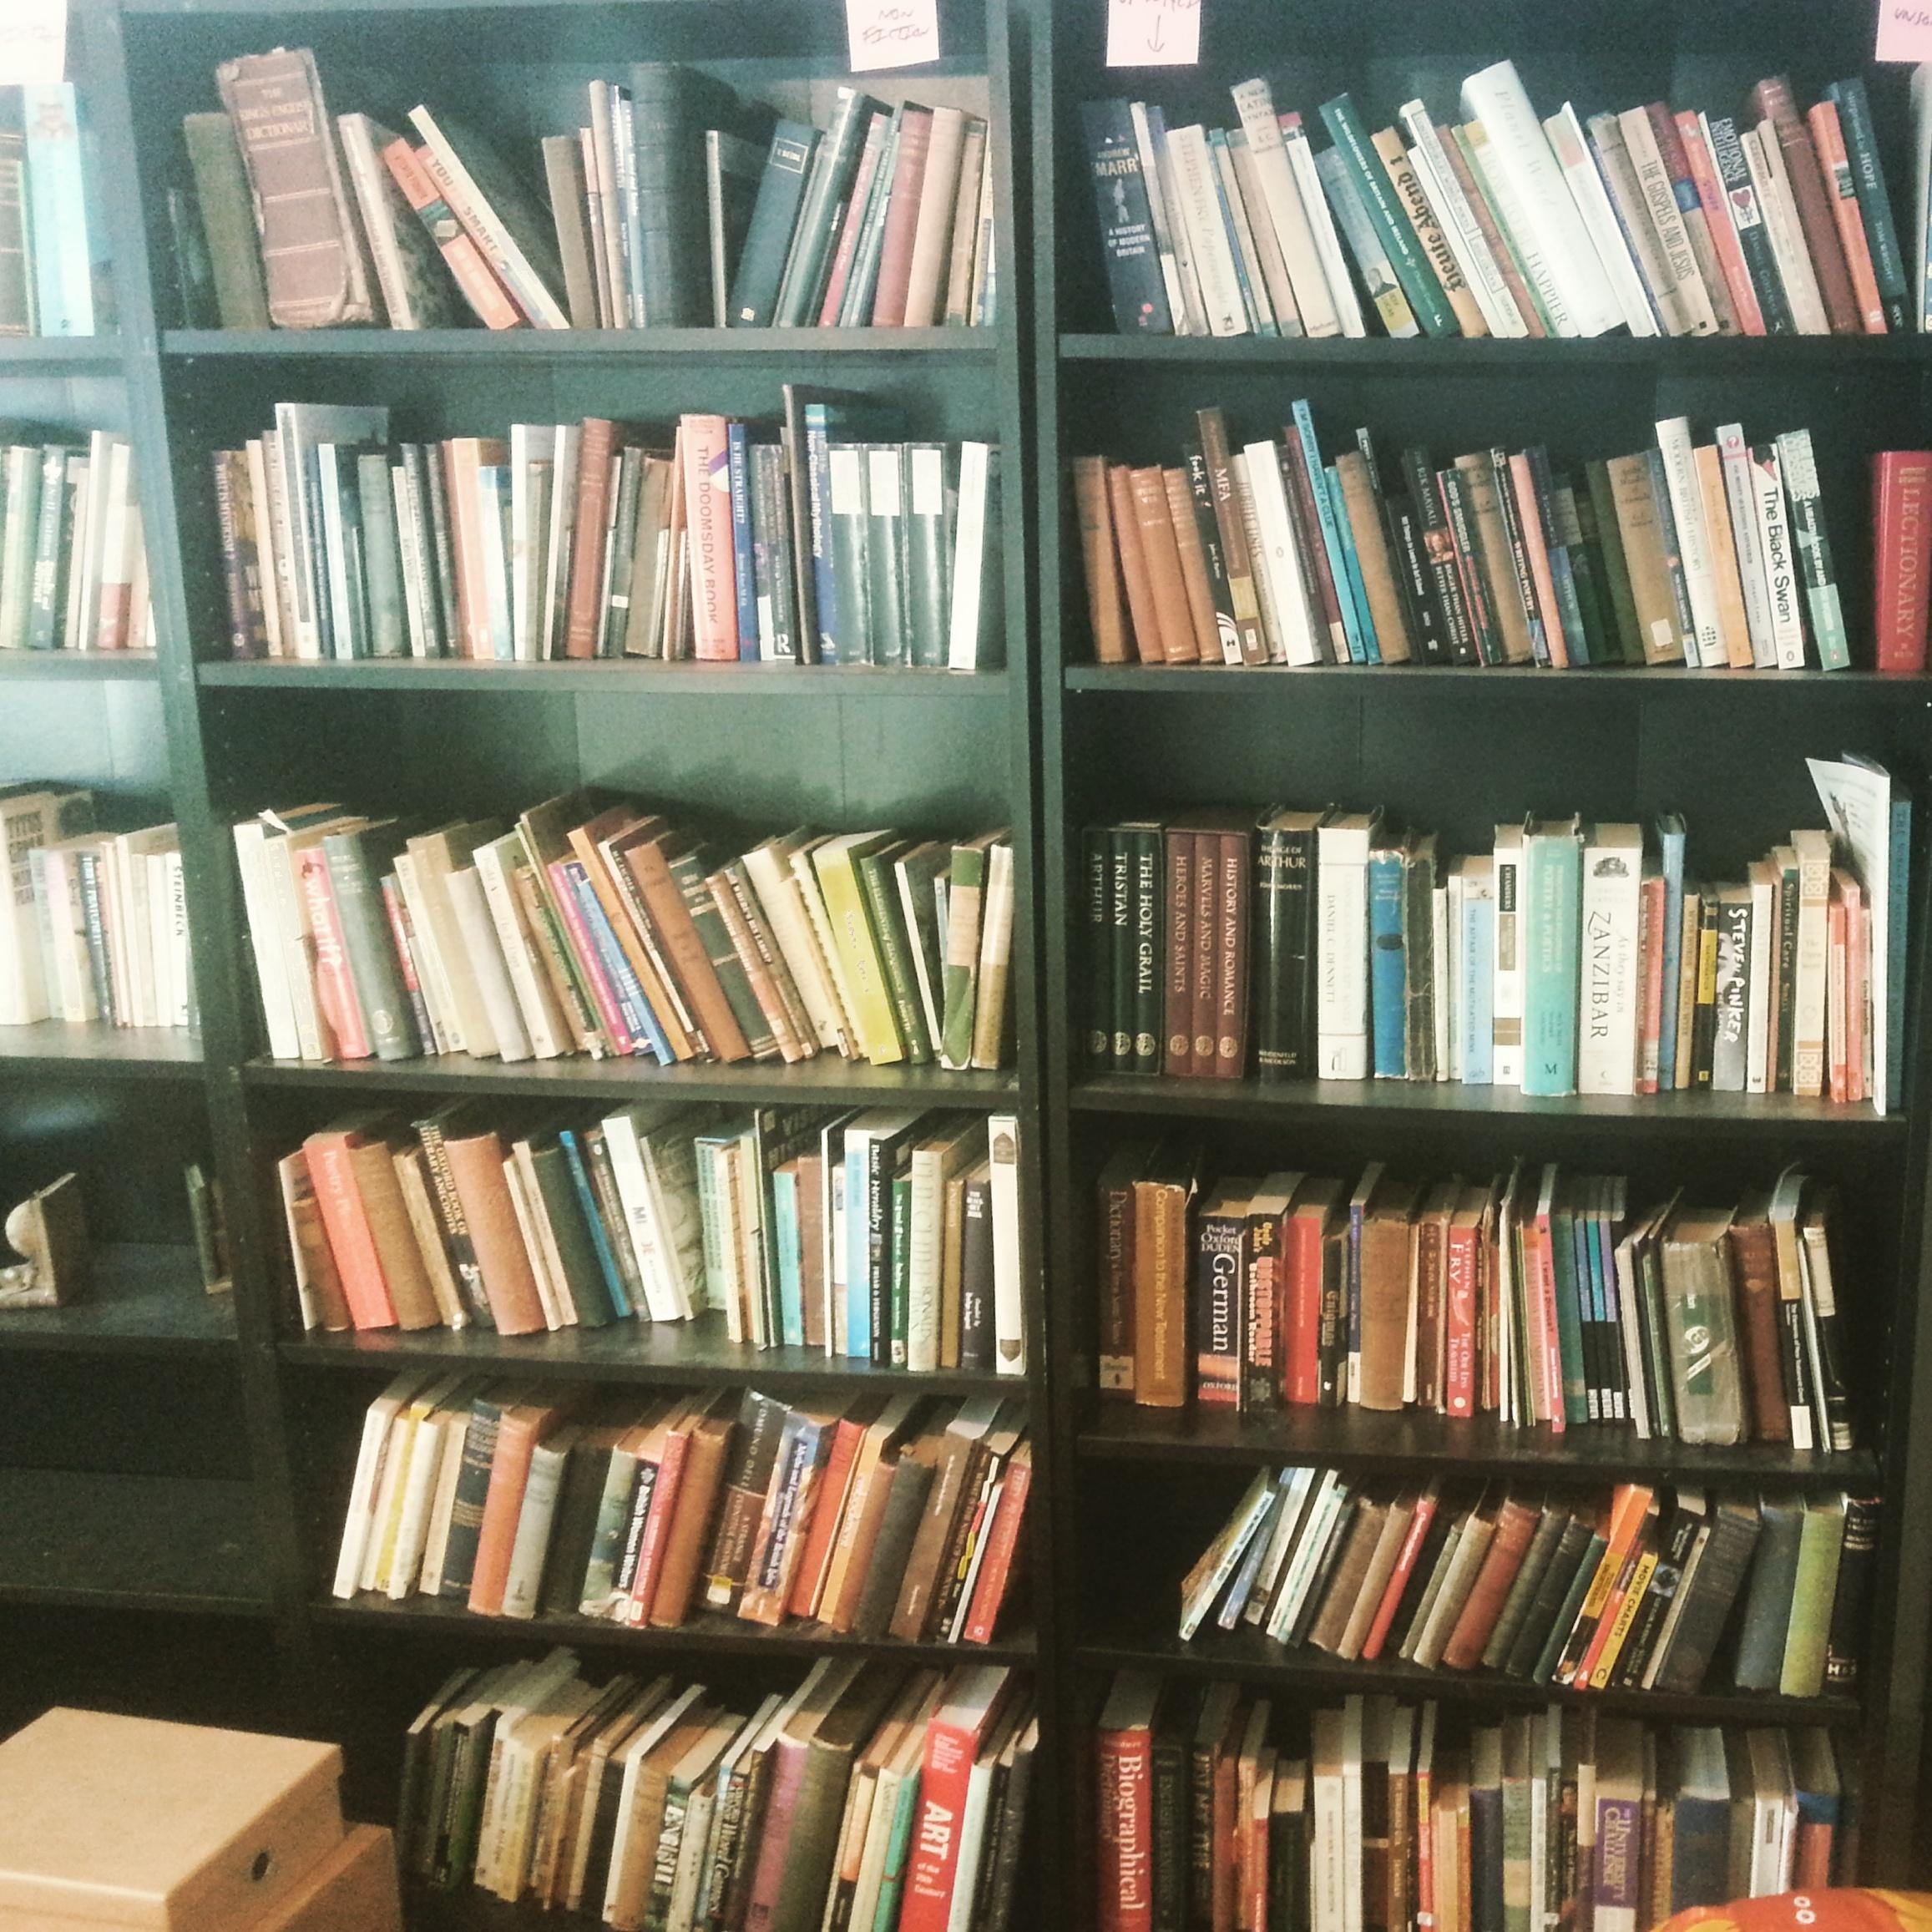Rak: (0, 0, 1053, 1932), (1017, 0, 1932, 1932)
